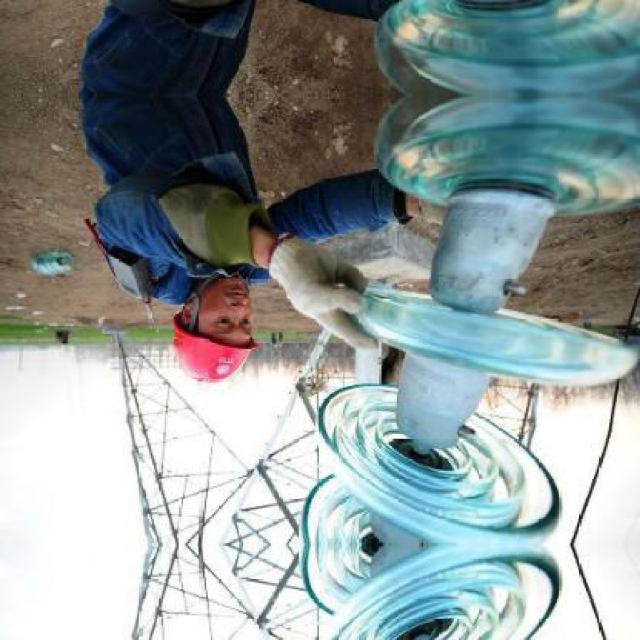safetyhelmet: (172, 276, 260, 389)
